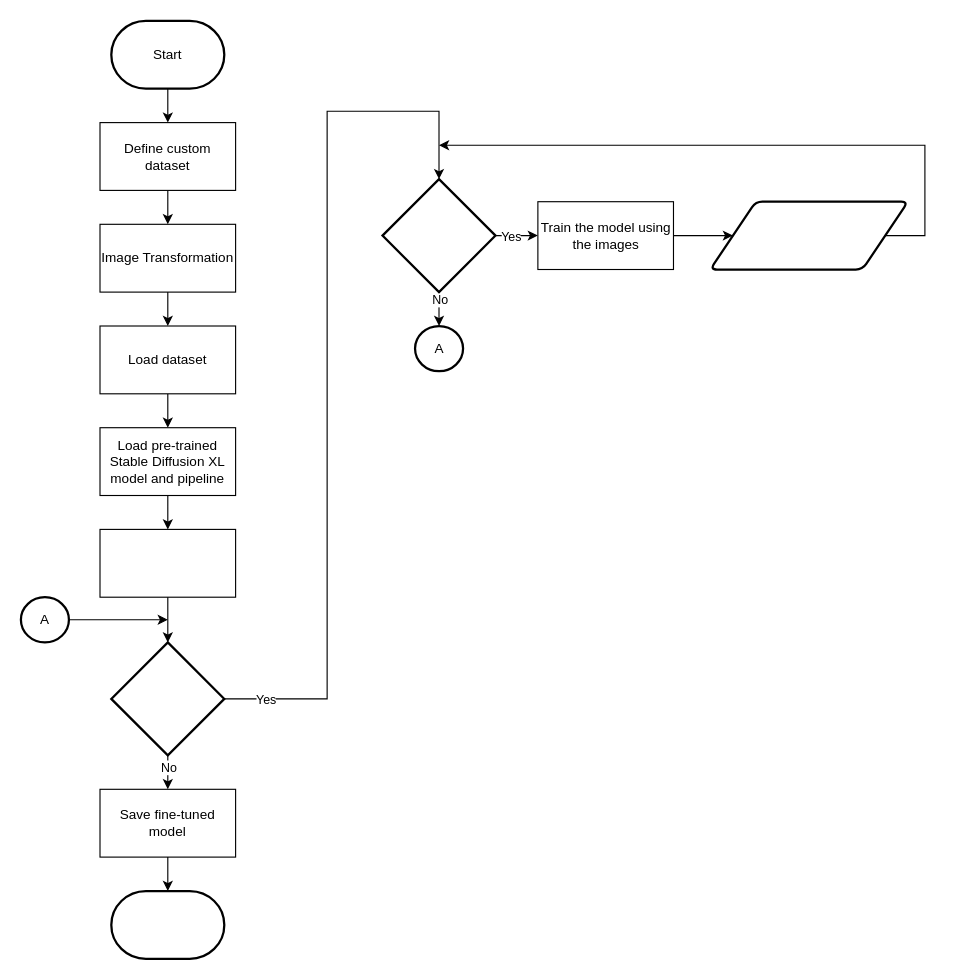
This 954x979 diagram has some shape labels left out. The shapes that lost their labels are listed below. From the top down, each one's box as (x1, y1, x2, y2) in pixels, then its label:
(381, 177, 496, 293): dataloader?
(709, 200, 909, 270): Print Epoch, Step and loss
(99, 528, 236, 597): Prepare optimizer, scheduler, accelerator and tokenizer
(110, 641, 225, 756): epoch < 5 ?
(110, 889, 225, 959): End
